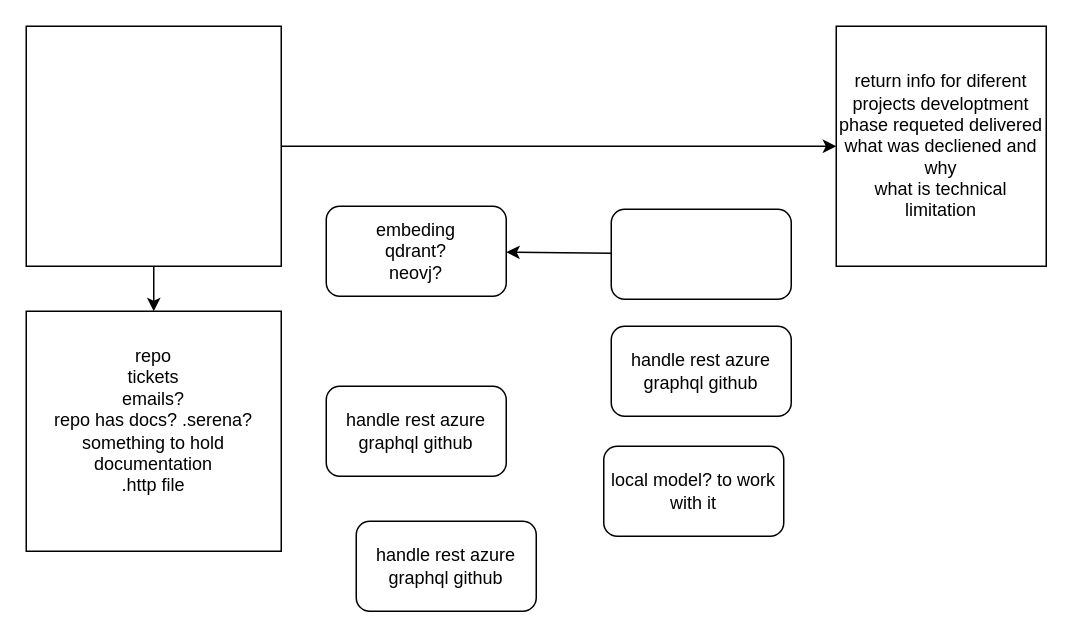
This 1073x638 diagram has some shape labels left out. The centre of each missing label's shape, as x and y in pixels:
"azure github gitlab" belongs at point (153, 145).
"run against repos sync documentation ingest embed" belongs at point (700, 253).
